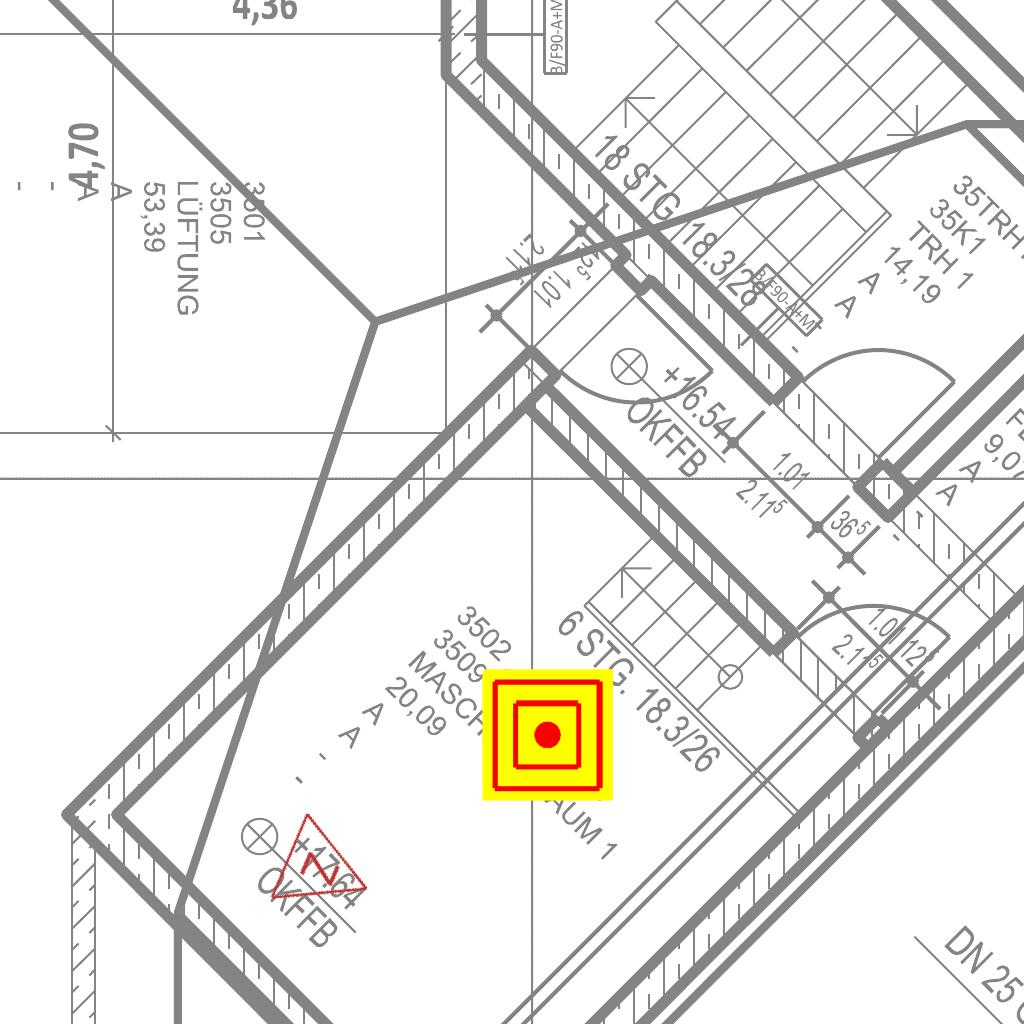NAM-Nichtautomatischer_Melder: (482, 669, 614, 801)
Zimmersignalleuchte: (262, 806, 394, 936)
